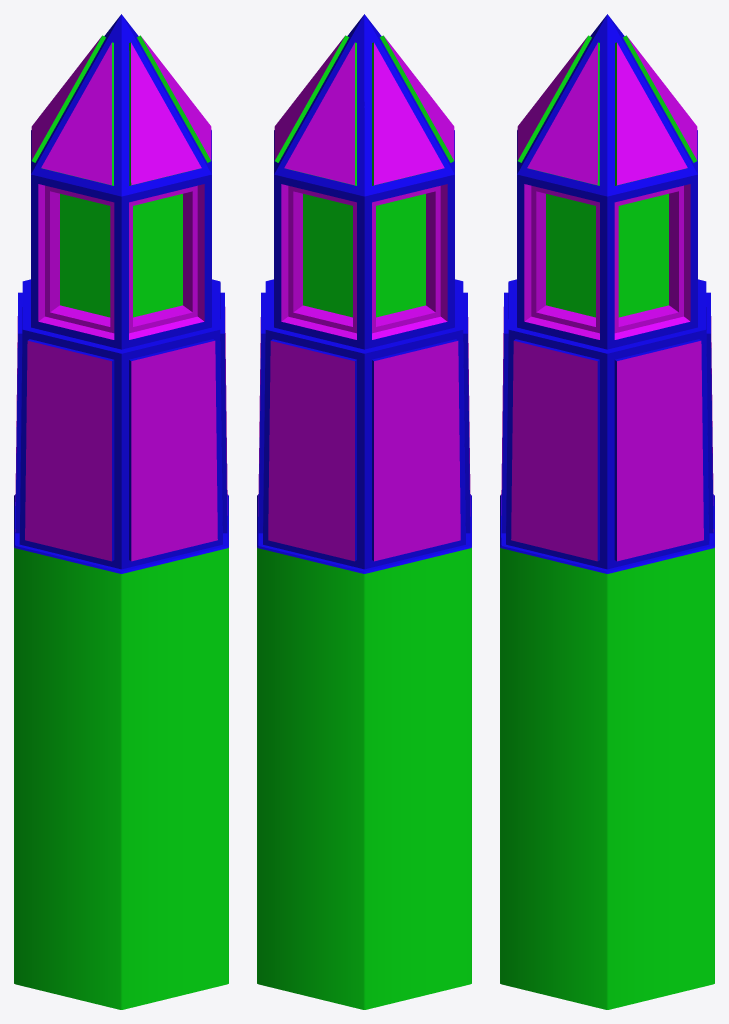
Rendered from TallStructureV001.FBX.
3 views of the same model, side by side, from view 1: azimuth 30°, elevation 25°; view 2: azimuth 150°, elevation 25°; view 3: azimuth 270°, elevation 25° (orthographic).
Parts seen in each view (by area): view 1: Object115; view 2: Object115; view 3: Object115.
Boxes of the visible parts, x1=… form: Object115: x1=14, y1=14, x2=228, y2=1009; Object115: x1=257, y1=14, x2=471, y2=1009; Object115: x1=500, y1=14, x2=714, y2=1009.
Size of the model in its own units: 250 by 218 by 1055.
